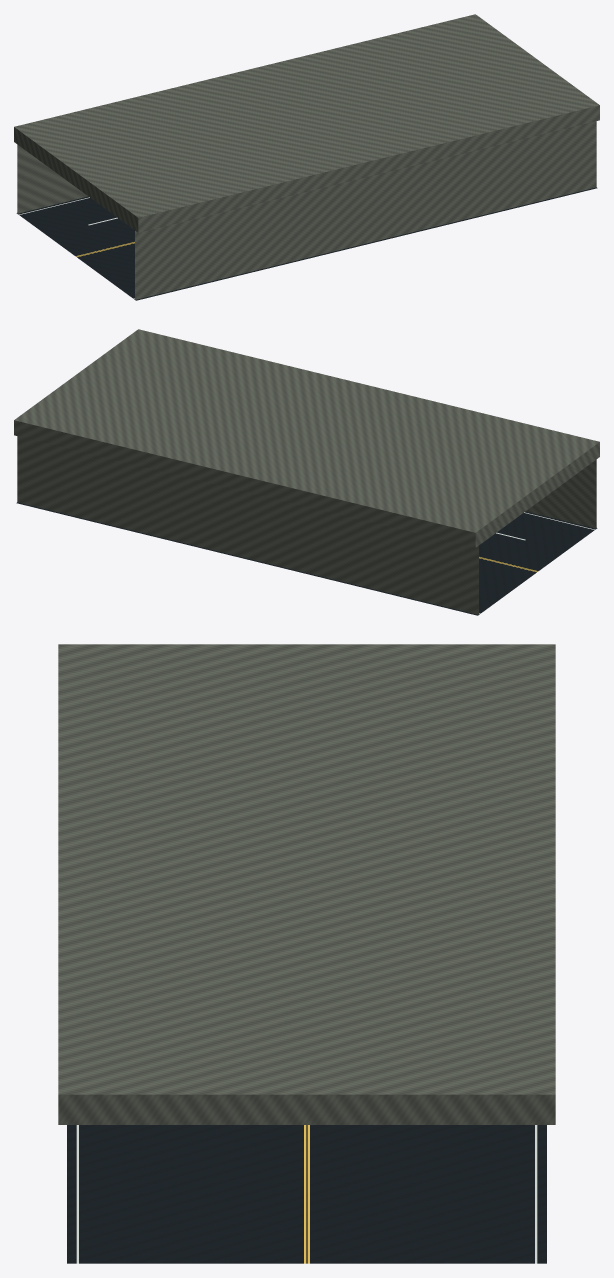
File: underpass_box_culvert_32m_LOD2.glb
3 views of the same model, one above another, from view 1: azimuth 30°, elevation 25°; view 2: azimuth 150°, elevation 25°; view 3: azimuth 270°, elevation 25° (orthographic). The views are drawn at different scales.
Parts seen in each view (by area): view 1: underpass_box_culvert_32m__roof_slab.002, underpass_box_culvert_32m__retaining_walls.002, underpass_box_culvert_32m__channel.002; view 2: underpass_box_culvert_32m__roof_slab.002, underpass_box_culvert_32m__retaining_walls.002, underpass_box_culvert_32m__channel.002; view 3: underpass_box_culvert_32m__roof_slab.002, underpass_box_culvert_32m__channel.002.
Boxes of the visible parts, bbox=[...] form: underpass_box_culvert_32m__roof_slab.002: bbox=[14, 14, 599, 232]; underpass_box_culvert_32m__retaining_walls.002: bbox=[17, 121, 596, 299]; underpass_box_culvert_32m__channel.002: bbox=[16, 187, 597, 300]; underpass_box_culvert_32m__roof_slab.002: bbox=[14, 329, 599, 547]; underpass_box_culvert_32m__retaining_walls.002: bbox=[17, 436, 596, 614]; underpass_box_culvert_32m__channel.002: bbox=[16, 502, 597, 615]; underpass_box_culvert_32m__roof_slab.002: bbox=[58, 644, 555, 1124]; underpass_box_culvert_32m__channel.002: bbox=[67, 1125, 546, 1263].
Bounding box in the file's own units: 32 × 5.6 × 14.93.
Materials: 5 (3 with a texture image).
